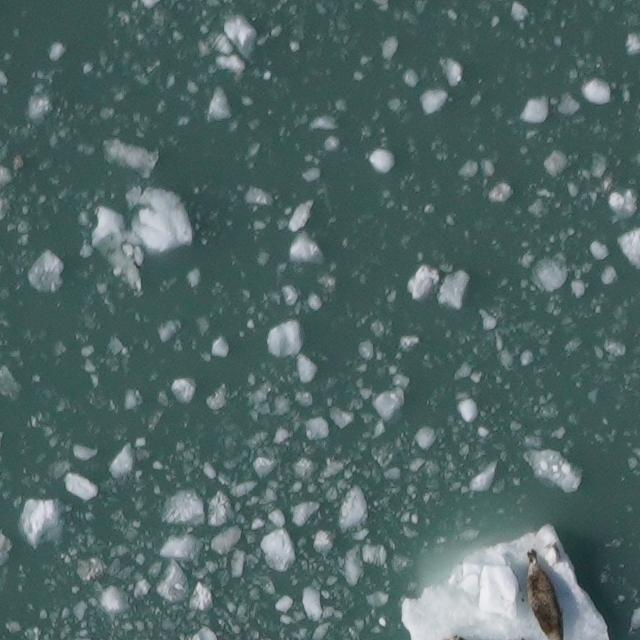seal: (521, 543, 569, 640)
